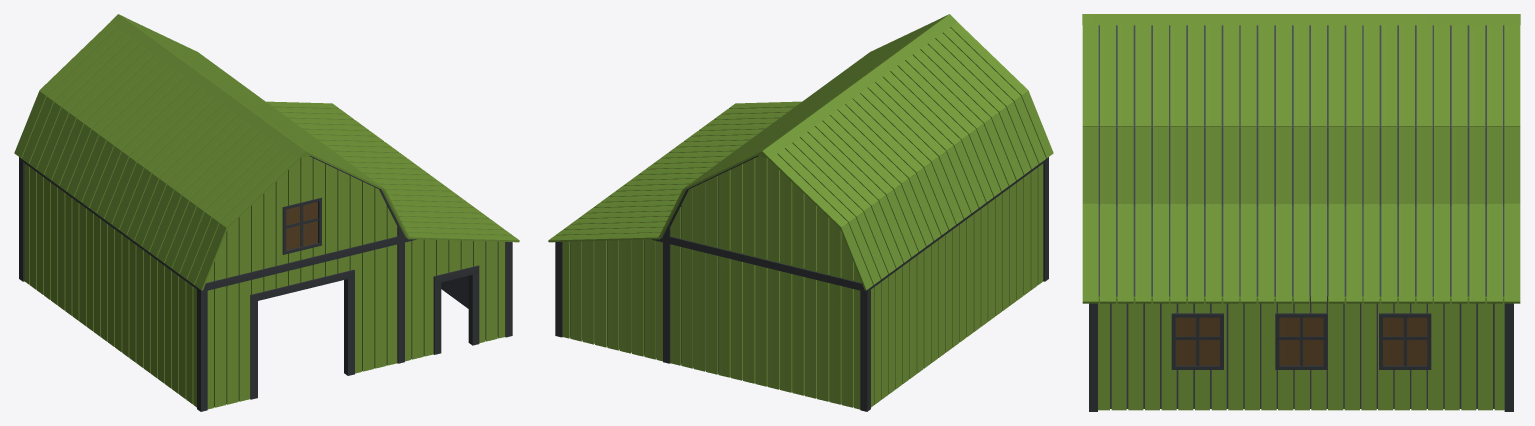
Rendered from Barn_01.fbx.
The picture shows the model from 3 angles, left to right: view 1: azimuth 30°, elevation 25°; view 2: azimuth 150°, elevation 25°; view 3: azimuth 270°, elevation 25°; orthographic projection. The views are drawn at different scales.
Visible parts, largest first — view 1: Barn_01; view 2: Barn_01; view 3: Barn_01.
Boxes of the visible parts, x1,y1,x2,y2 form: Barn_01: (14, 14, 519, 411); Barn_01: (548, 14, 1053, 411); Barn_01: (1082, 14, 1520, 411).
Size of the model in its own units: 9.33 by 6.66 by 9.51.
